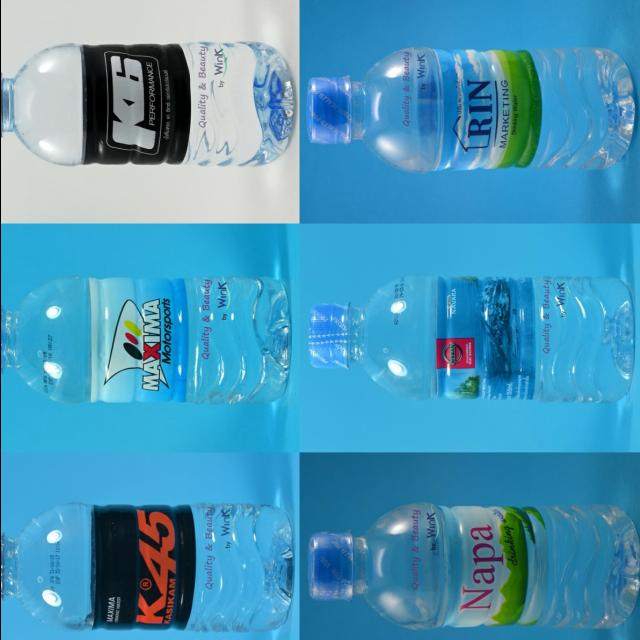plastik: (307, 503, 640, 629), (308, 274, 633, 402), (307, 47, 633, 173), (0, 503, 292, 632), (0, 276, 289, 404), (0, 42, 293, 166)
